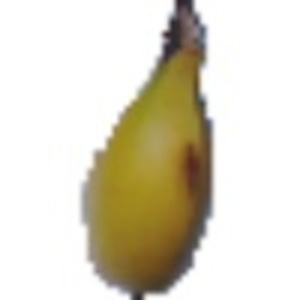banana: (76, 8, 226, 294)
